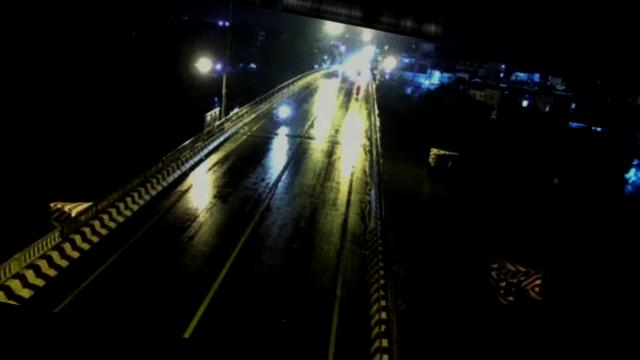Bike: (275, 99, 294, 123)
